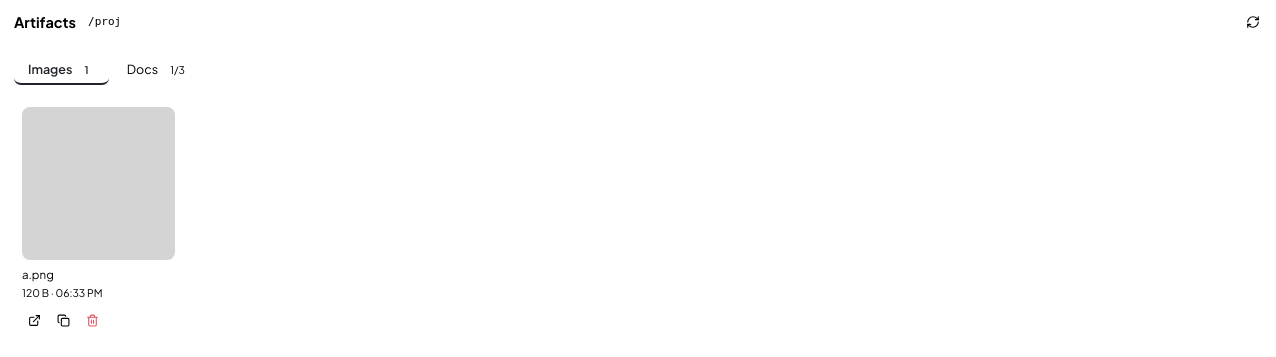
Test: Artifacts browser › lists image tiles (streamed thumbnails) and docs with exists flags
Click the button "Docs 1/3": (159, 70) x1=113 y1=55 x2=205 y2=85
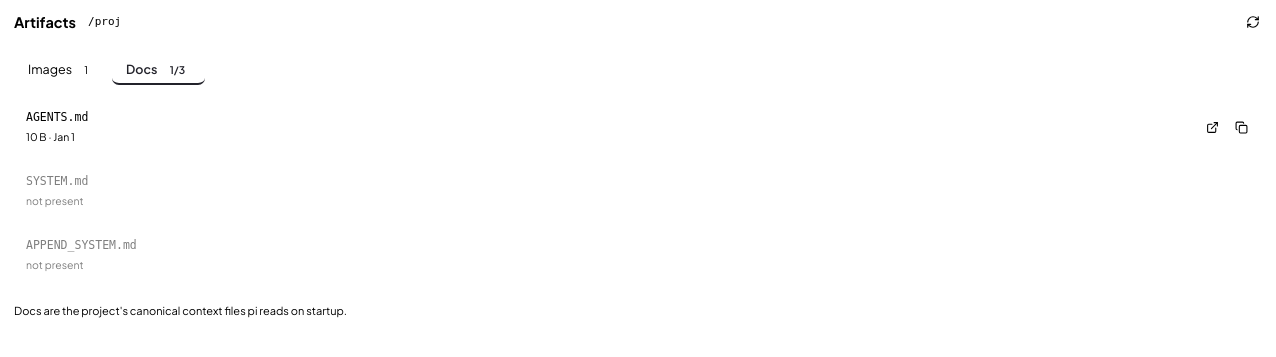
Check: the number of elements with class "docrow" is 3, box x1=26 y1=110 x2=1254 y2=143; x1=26 y1=174 x2=88 y2=207; x1=26 y1=238 x2=137 y2=271
Check: the element with class "docrow" shows "AGENTS.md", box x1=26 y1=110 x2=88 y2=124
